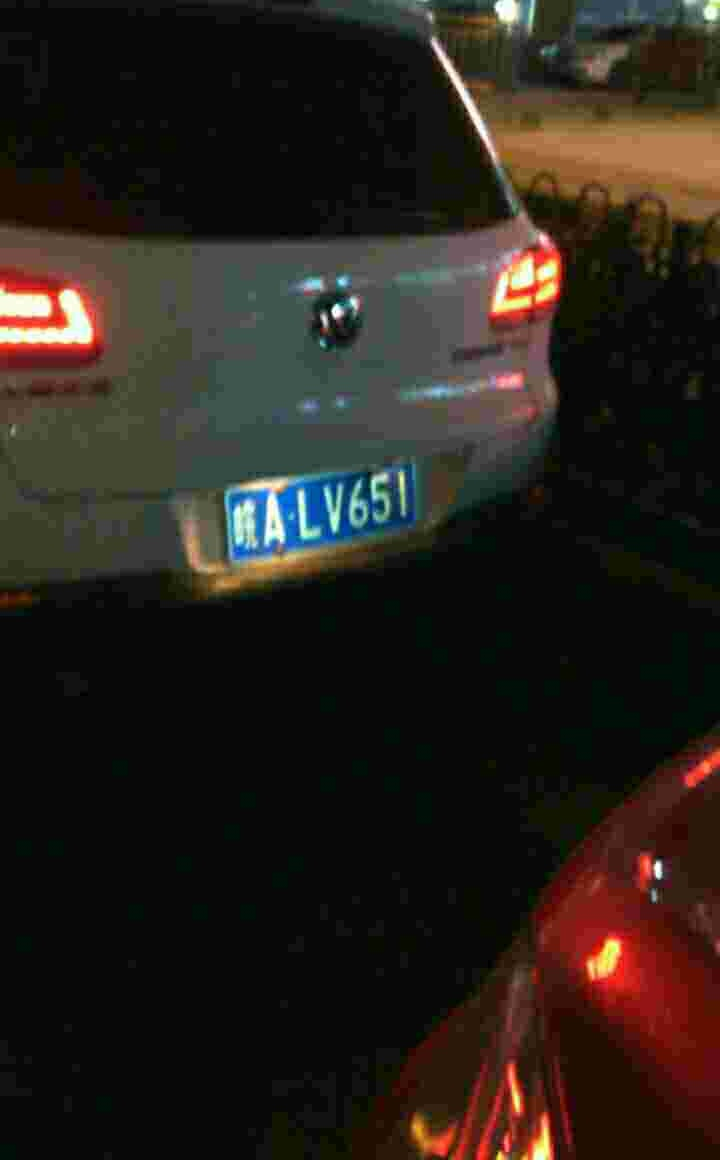license_plate: (223, 466, 415, 563)
